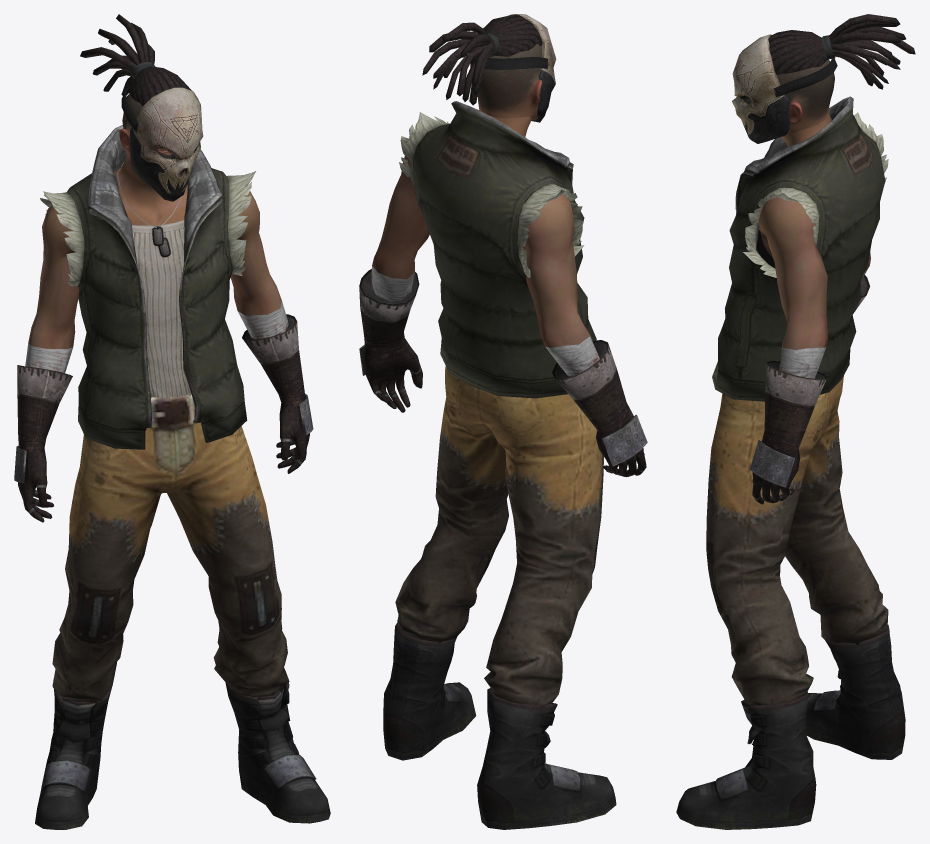
File: skull.FBX
The picture shows the model from 3 angles, left to right: view 1: azimuth 30°, elevation 25°; view 2: azimuth 150°, elevation 25°; view 3: azimuth 270°, elevation 25°; orthographic projection. The views are drawn at different scales.
Parts seen in each view (by area): view 1: Mesh_1988.rip, Mesh_1987.rip, Mesh_1996.rip; view 2: Mesh_1988.rip, Mesh_1987.rip, Mesh_1996.rip; view 3: Mesh_1988.rip, Mesh_1987.rip, Mesh_1996.rip.
Part boxes in pixels (bbox=[...]): Mesh_1988.rip: bbox=[14, 85, 330, 829]; Mesh_1987.rip: bbox=[28, 93, 281, 348]; Mesh_1996.rip: bbox=[80, 14, 191, 106]; Mesh_1988.rip: bbox=[359, 14, 647, 829]; Mesh_1987.rip: bbox=[372, 44, 589, 347]; Mesh_1996.rip: bbox=[422, 14, 542, 105]; Mesh_1988.rip: bbox=[676, 34, 905, 829]; Mesh_1987.rip: bbox=[750, 59, 870, 349]; Mesh_1996.rip: bbox=[768, 14, 915, 89].
Size of the model in its own units: 0.8738 by 2.25 by 0.6421.
Materials: 3 (3 with a texture image).
